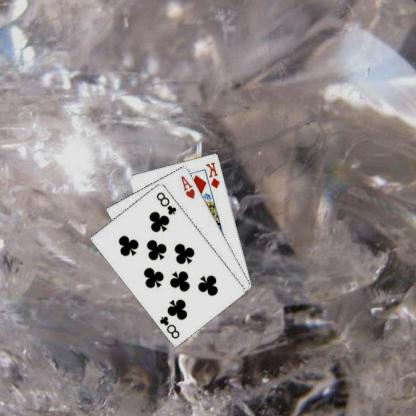8C: (156, 189, 180, 216), (158, 313, 182, 339)
AH: (180, 173, 198, 200)
KD: (205, 160, 223, 190)
